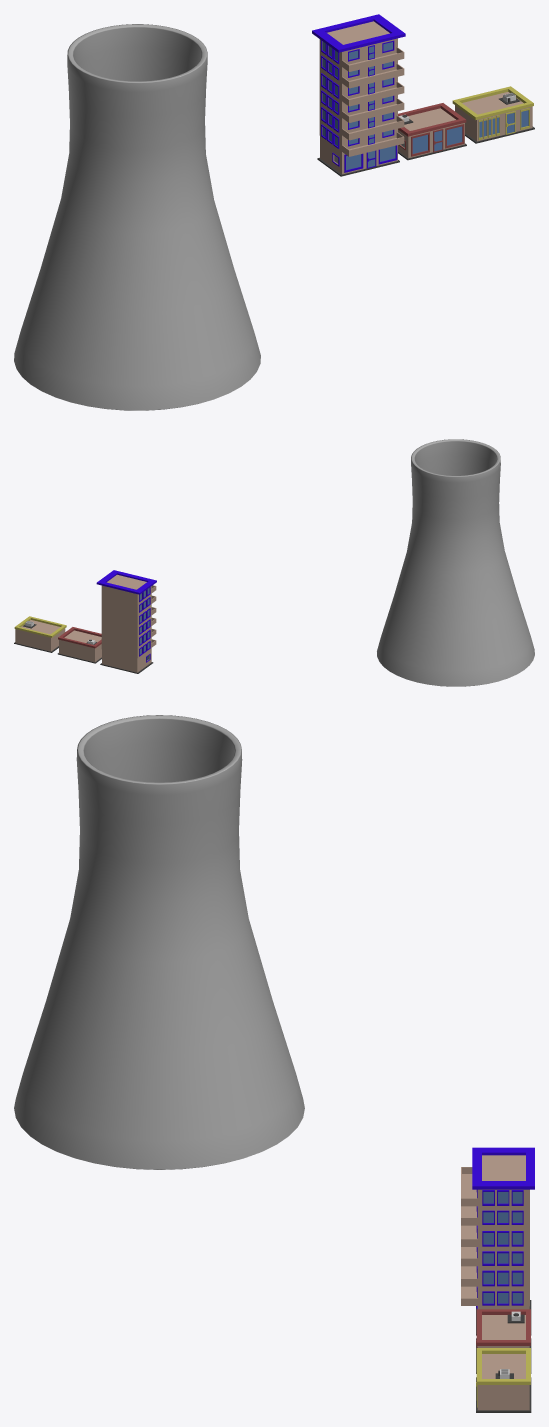
File: maison.fbx
The picture shows the model from 3 angles, top to bottom: view 1: azimuth 30°, elevation 25°; view 2: azimuth 150°, elevation 25°; view 3: azimuth 270°, elevation 25°; orthographic projection. The views are drawn at different scales.
Parts seen in each view (by area): view 1: pCylinder3, pCube106, pCube34, pCube105, pCube13, pCube8, pCube22, pCube23, pCube107, pCube123; view 2: pCylinder3, pCube51, pCube106, pCube21, pCube7, pCube34, pCube13, pCube105; view 3: pCylinder3, pCube106, pCube19, pCube105, pCube117, pCube206, pCube8, pCube22, pCube34, pCube13, pCube183.
Boxes of the visible parts, bbox=[...] form: pCylinder3: bbox=[14, 24, 260, 410]; pCube106: bbox=[312, 14, 405, 52]; pCube34: bbox=[452, 86, 533, 119]; pCube105: bbox=[327, 21, 389, 44]; pCube13: bbox=[398, 103, 466, 136]; pCube8: bbox=[404, 108, 455, 130]; pCube22: bbox=[462, 92, 523, 114]; pCube23: bbox=[478, 107, 531, 140]; pCube107: bbox=[320, 136, 342, 173]; pCube123: bbox=[343, 38, 396, 64]; pCylinder3: bbox=[377, 439, 534, 686]; pCube51: bbox=[102, 586, 137, 672]; pCube106: bbox=[96, 570, 156, 594]; pCube21: bbox=[15, 629, 50, 651]; pCube7: bbox=[59, 640, 94, 661]; pCube34: bbox=[14, 616, 66, 637]; pCube13: bbox=[58, 627, 101, 648]; pCube105: bbox=[107, 574, 146, 589]; pCylinder3: bbox=[14, 715, 304, 1169]; pCube106: bbox=[472, 1147, 534, 1189]; pCube19: bbox=[477, 1385, 529, 1410]; pCube105: bbox=[482, 1155, 525, 1180]; pCube117: bbox=[479, 1225, 529, 1266]; pCube206: bbox=[479, 1264, 529, 1306]; pCube8: bbox=[482, 1315, 525, 1339]; pCube22: bbox=[482, 1354, 525, 1378]; pCube34: bbox=[476, 1348, 530, 1384]; pCube13: bbox=[476, 1309, 530, 1345]; pCube183: bbox=[479, 1189, 529, 1225].
Size of what is drawn, in the model's own units: 511 by 234 by 307.
